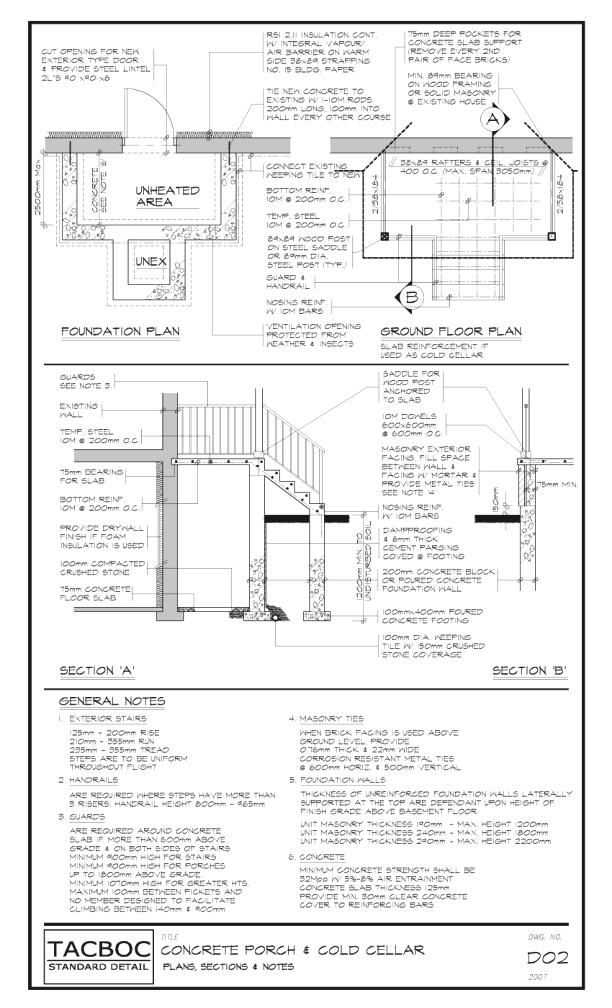elevation: (479, 101, 510, 208), (394, 223, 425, 315)
